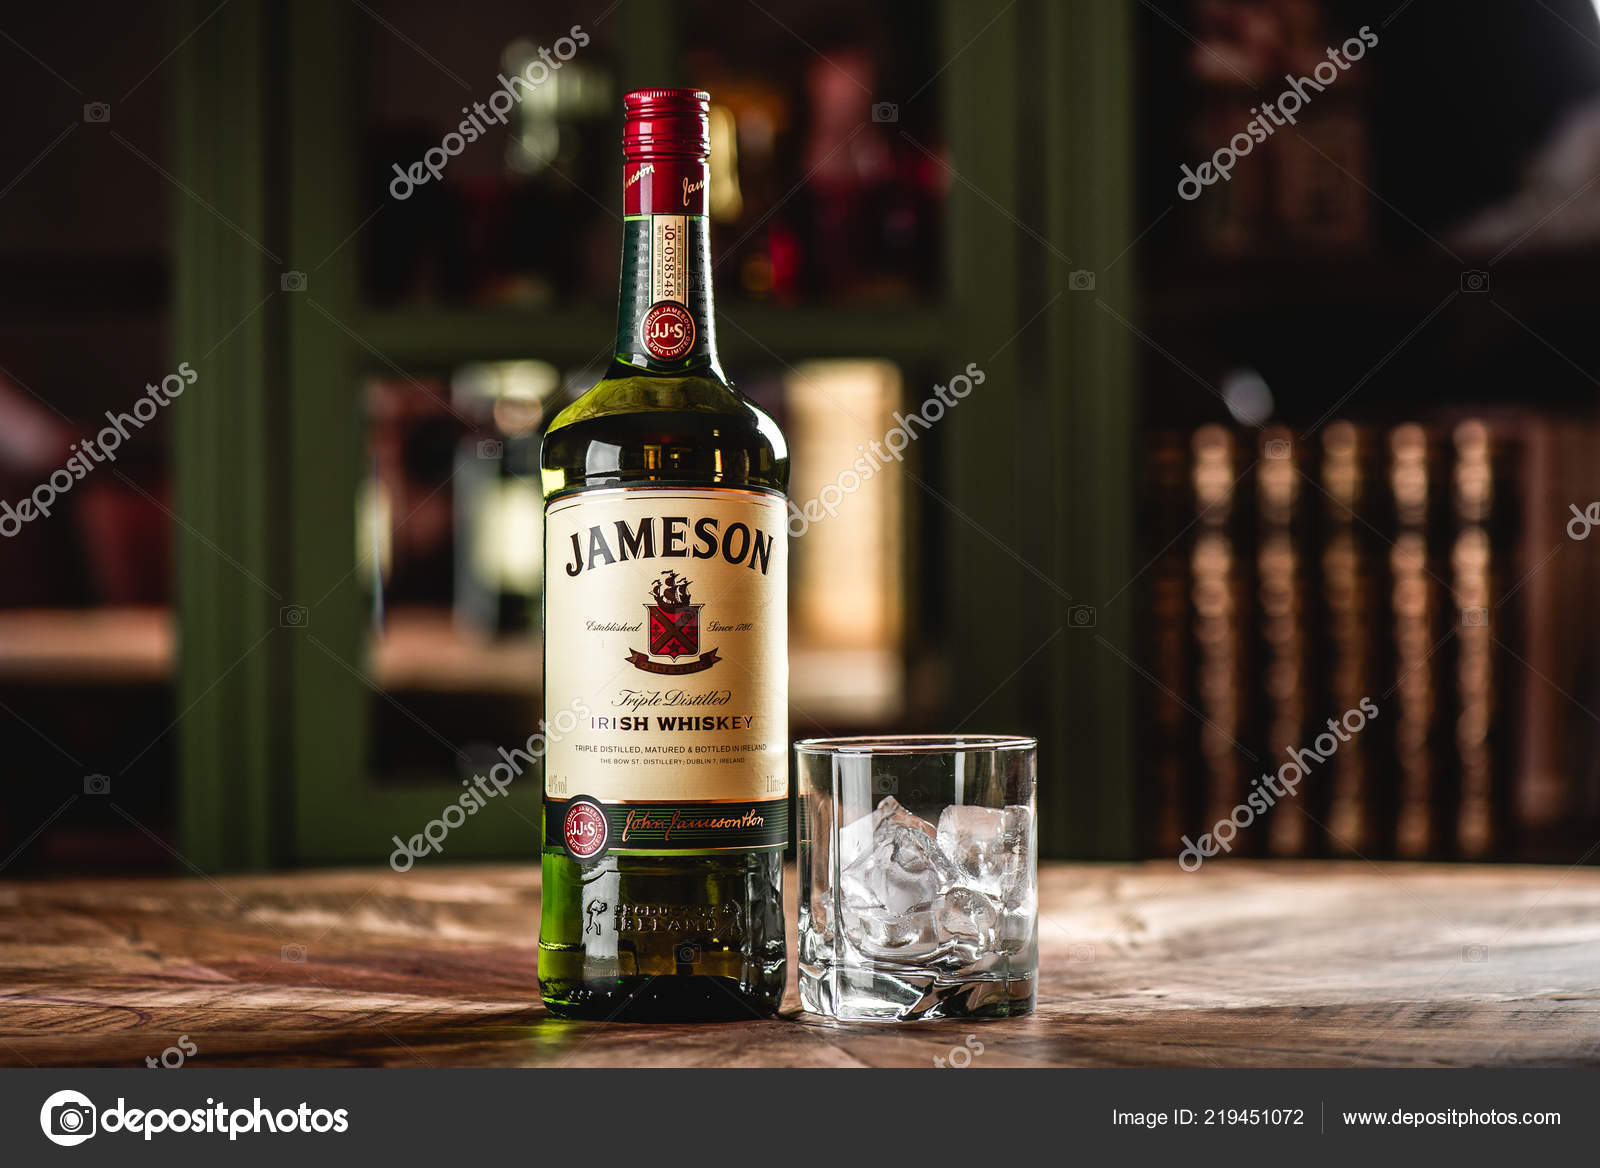Jameson: (528, 70, 798, 1033)
